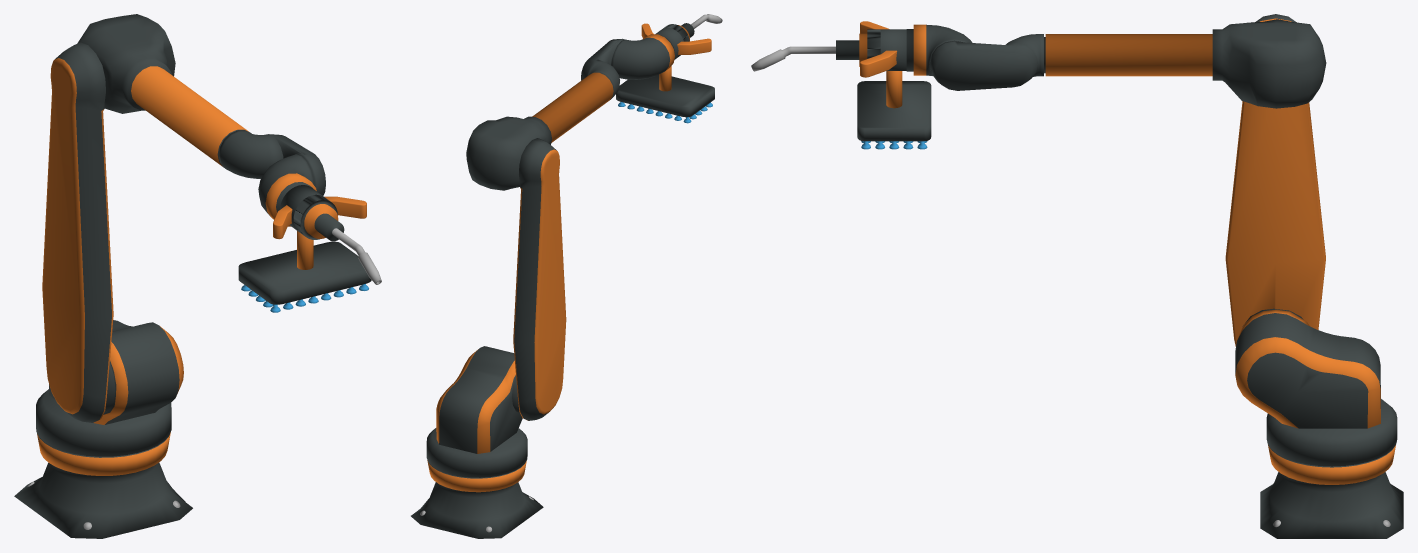
The model's file is weld_arm.glb.
3 views of the same model, side by side, from view 1: azimuth 30°, elevation 25°; view 2: azimuth 150°, elevation 25°; view 3: azimuth 270°, elevation 25° (orthographic). The views are drawn at different scales.
Visible parts, largest first — view 1: Это база, Cube.001, Cube.002, Cylinder, Cube.003, Cylinder.001, Cylinder.002, Cube.005, Cube.006; view 2: Это база, Cube.001, Cube.002, Cylinder, Cube.003, Cylinder.001, Cube.006, Cylinder.002; view 3: Это база, Cube.001, Cube.002, Cube.003, Cylinder, Cylinder.001.
Boxes of the visible parts, x1,y1,x2,y2 form: Это база: (14, 320, 192, 538); Cube.001: (42, 42, 113, 422); Cube.002: (77, 14, 249, 167); Cylinder: (238, 185, 371, 304); Cube.003: (218, 130, 325, 226); Cylinder.001: (293, 194, 381, 284); Cylinder.002: (241, 284, 368, 312); Cube.005: (324, 196, 366, 218); Cube.006: (273, 205, 292, 239); Это база: (411, 346, 543, 538); Cube.001: (513, 138, 566, 420); Cube.002: (466, 72, 613, 190); Cylinder: (616, 28, 714, 117); Cube.003: (581, 34, 674, 99); Cylinder.001: (663, 14, 722, 41); Cube.006: (677, 38, 711, 54); Cylinder.002: (618, 102, 712, 123); Это база: (1235, 308, 1403, 538); Cube.001: (1225, 14, 1325, 346); Cube.002: (1044, 19, 1326, 108); Cube.003: (906, 24, 1043, 90); Cylinder: (857, 29, 931, 141); Cylinder.001: (751, 29, 880, 71).
Size of the model in its own units: 0.7618 by 2.61 by 3.25.
